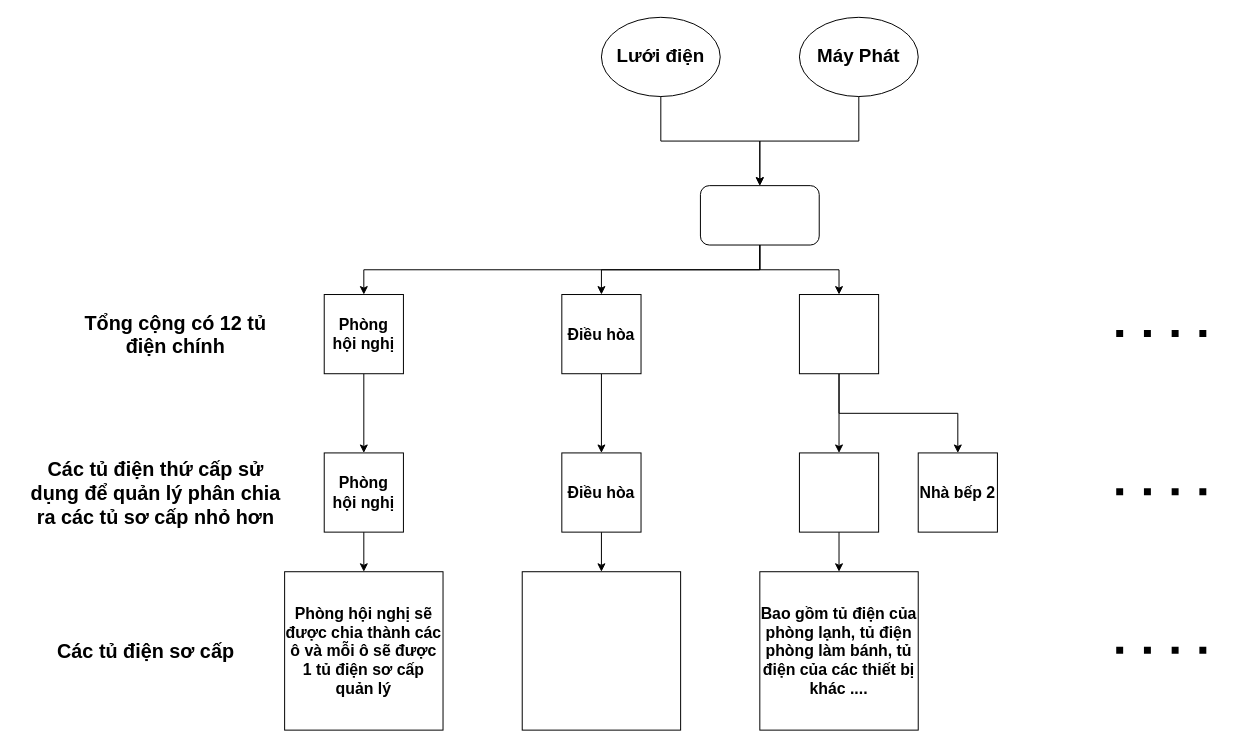
Image size: 1246x747. Some labels were removed from this diagram. The shapes that lost their labels are listed below. From the top down, each one's box as (x1, y1, x2, y2) in pixels, then its label:
(699, 185, 819, 245): SWITCH khi mất điện
(798, 294, 879, 374): Nhà bếp
(798, 452, 879, 532): Nhà bếp 1
(521, 571, 681, 730): Quản lý tất cả điều hòa tại các phòng
